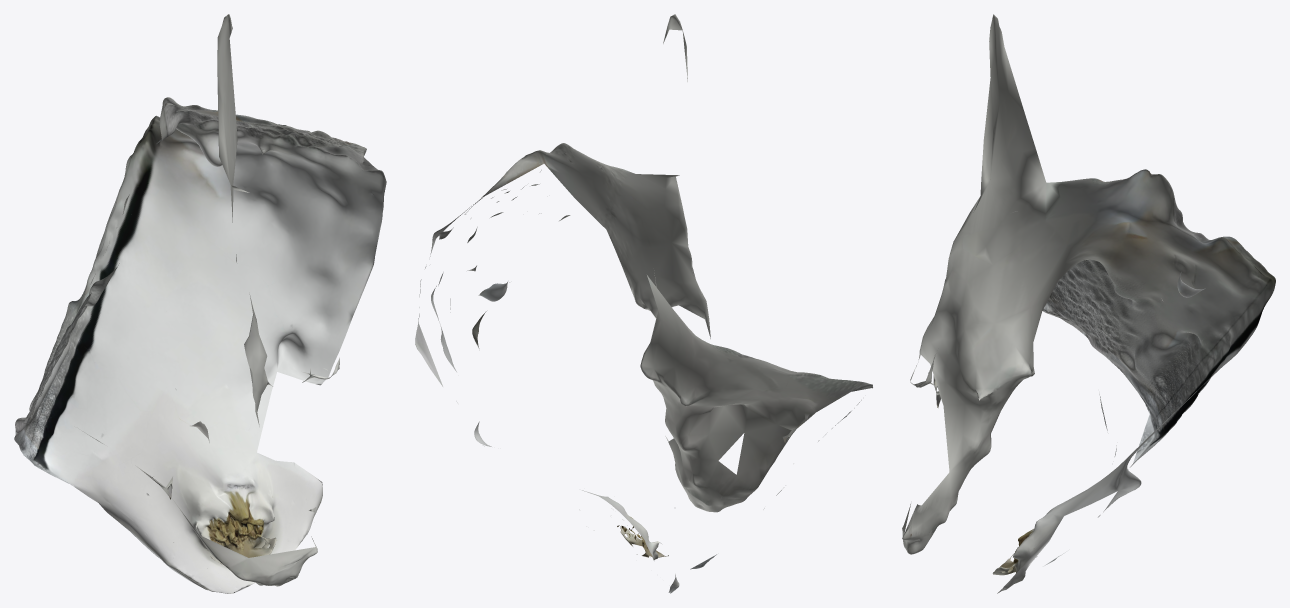
3 views of the same model, side by side, from view 1: azimuth 30°, elevation 25°; view 2: azimuth 150°, elevation 25°; view 3: azimuth 270°, elevation 25° (orthographic). The views are drawn at different scales.
Bounding box in the file's own units: 1.38 × 1.9 × 1.12.
Materials: 1 (1 with a texture image).
